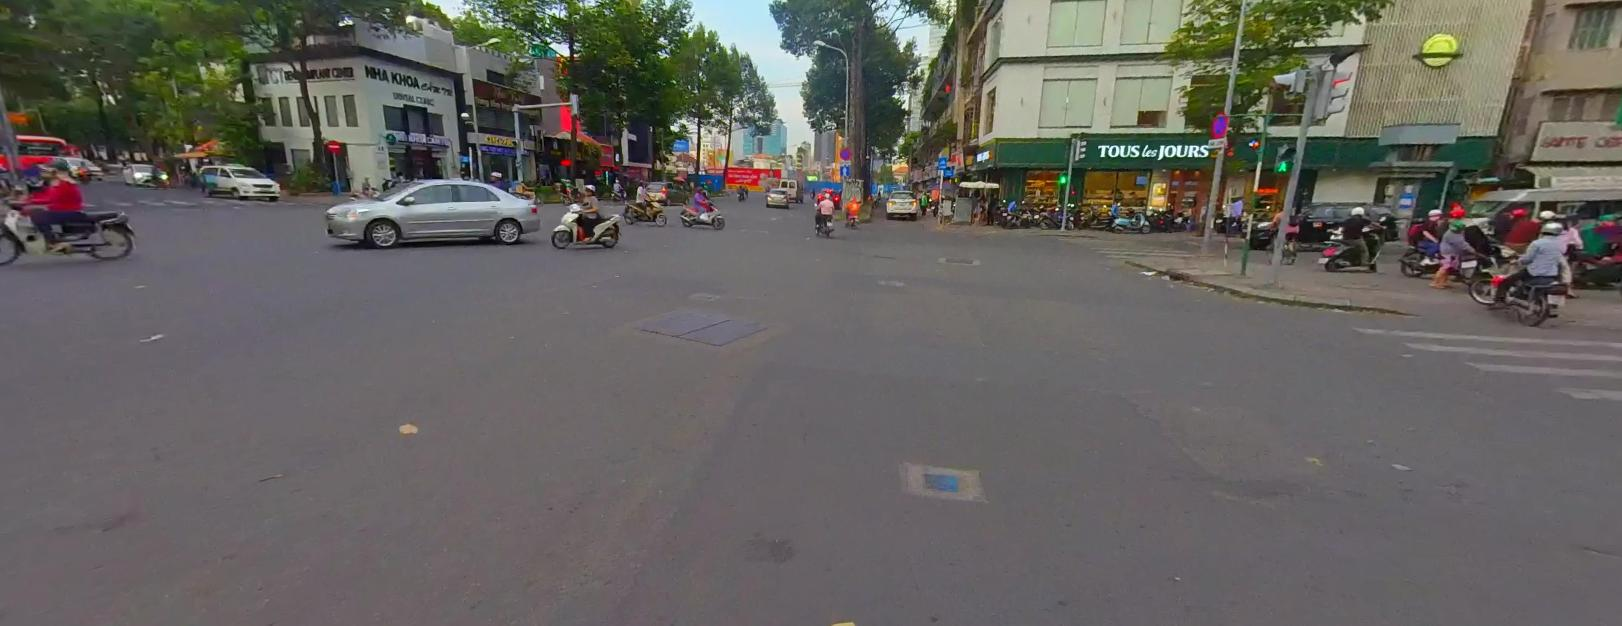Cam dung va do: (1211, 112, 1226, 137), (839, 147, 850, 159)
Cam nguoc chieu: (326, 139, 338, 151)
